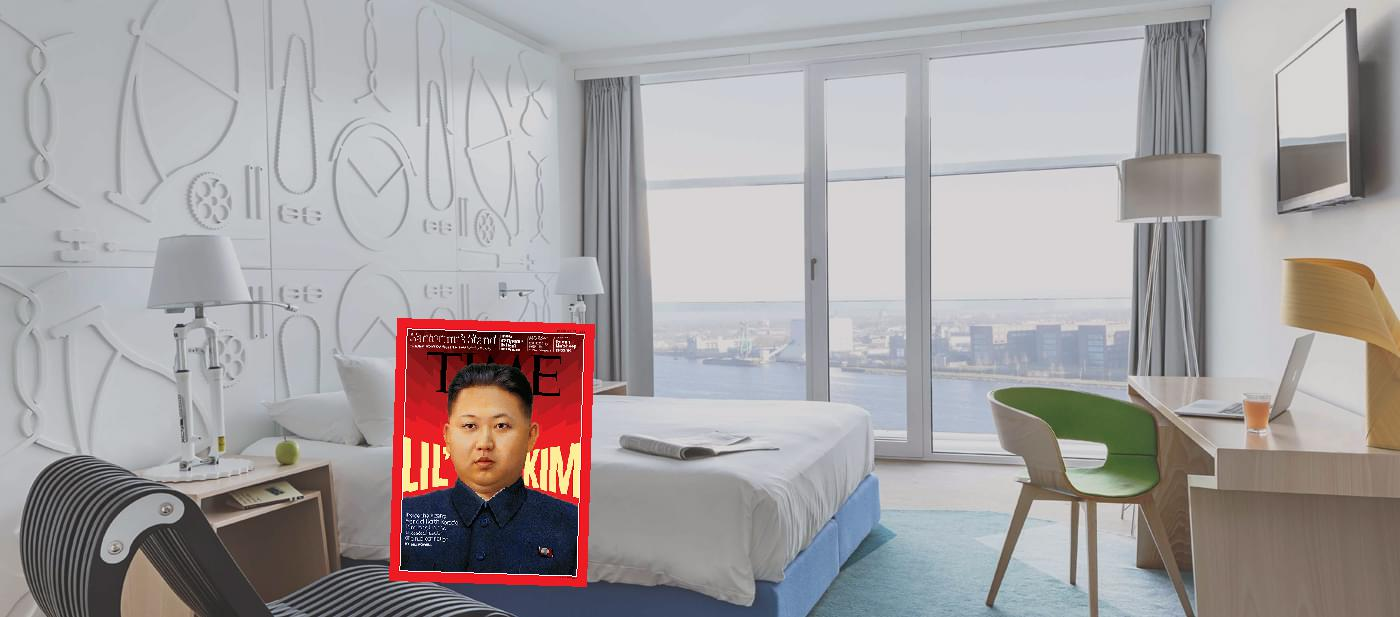times: (388, 314, 593, 598)
